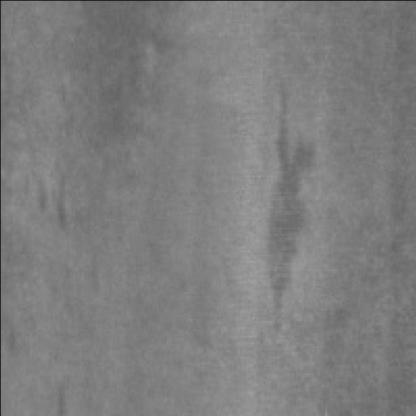inclusion: (256, 79, 328, 329), (33, 156, 81, 241)
